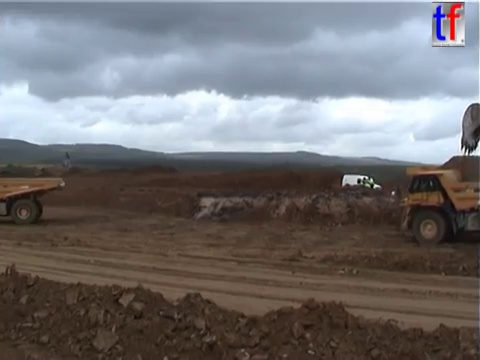excavator: (457, 99, 480, 160)
truck: (388, 164, 480, 246), (1, 174, 67, 225)
worker: (366, 174, 375, 193), (359, 175, 367, 192)
